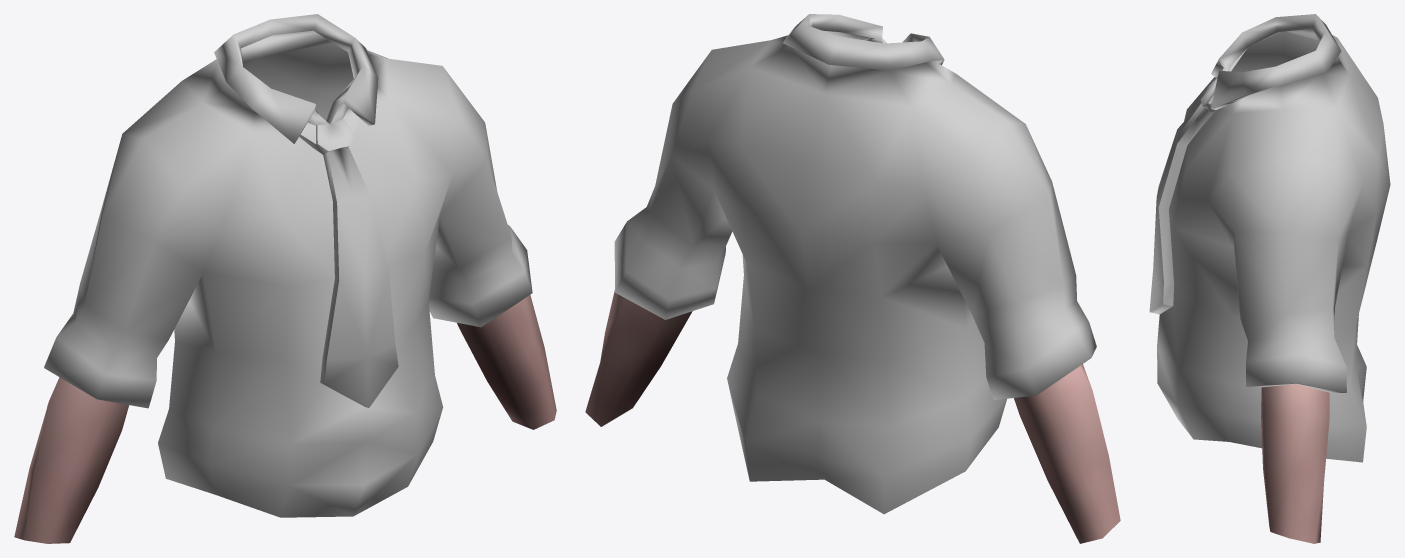
File: tie_shirt.fbx
3 renders of one model, left to right at view 1: azimuth 30°, elevation 25°; view 2: azimuth 150°, elevation 25°; view 3: azimuth 270°, elevation 25°, orthographic. The views are drawn at different scales.
Parts seen in each view (by area): view 1: tie_shirt; view 2: tie_shirt; view 3: tie_shirt.
Part boxes in pixels (<box>): tie_shirt: <box>14,14,556,543</box>; tie_shirt: <box>585,14,1120,543</box>; tie_shirt: <box>1149,14,1390,543</box>.
Size of the model in its own units: 31.25 by 25.66 by 13.81.
